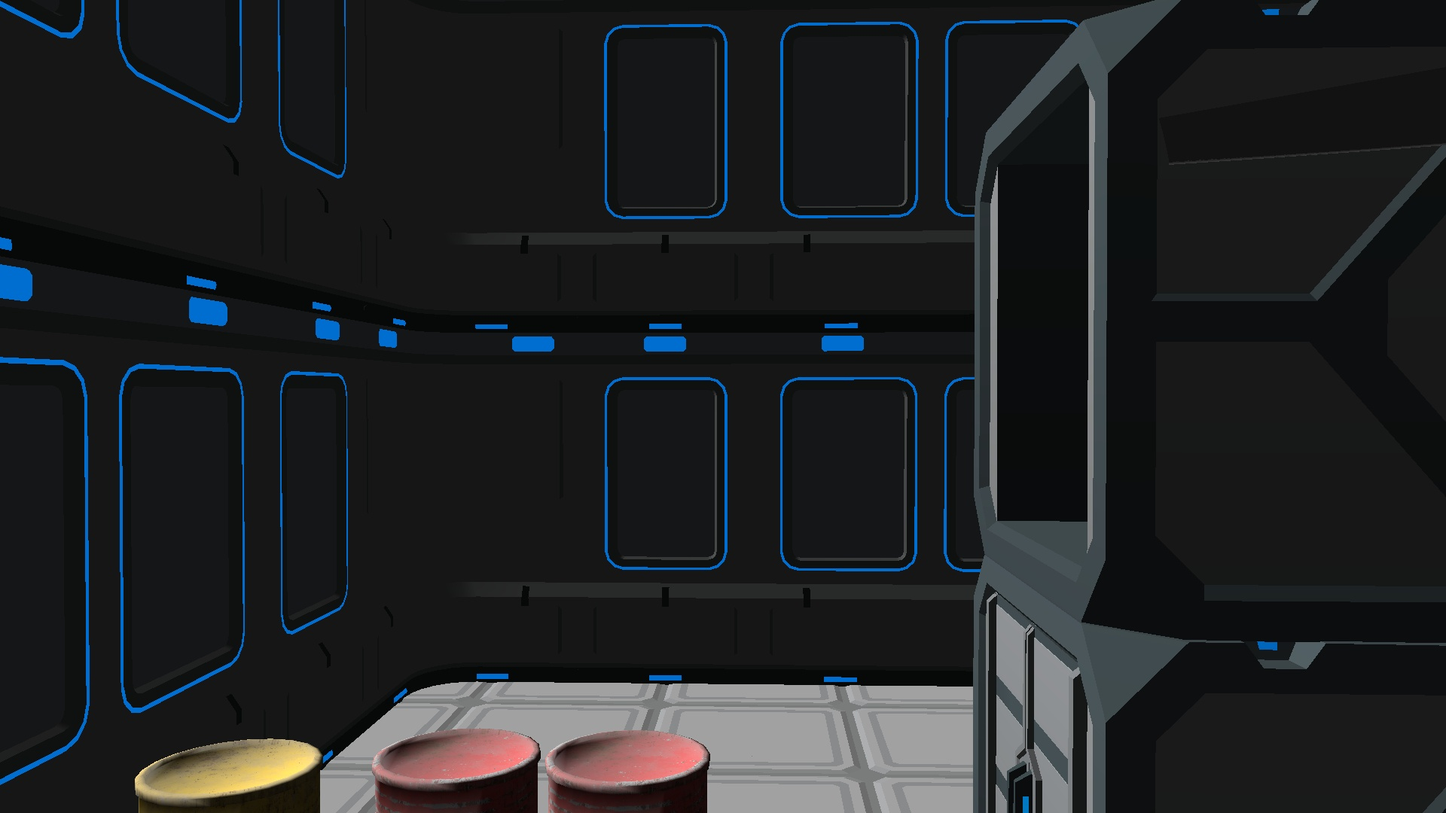toxic barrel: (371, 728, 541, 813), (135, 738, 322, 813), (545, 728, 709, 813)
